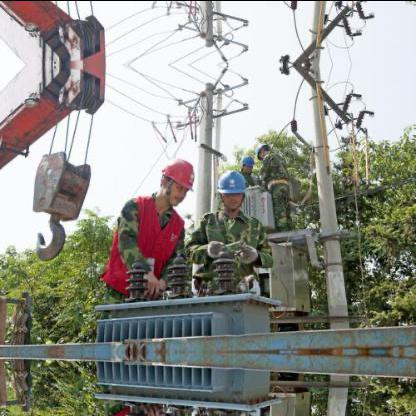Helmet: (156, 152, 196, 206), (215, 164, 247, 212), (252, 140, 272, 158), (238, 152, 254, 172)
